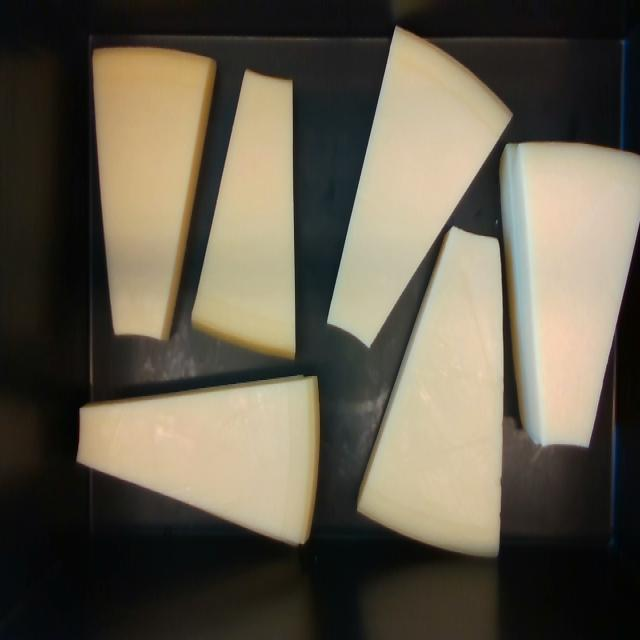Cheese: (328, 28, 511, 345), (358, 228, 503, 552), (501, 143, 639, 445), (77, 377, 318, 544), (94, 49, 214, 339), (191, 73, 293, 357)
